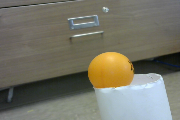PingPongBall: (89, 52, 134, 89)
